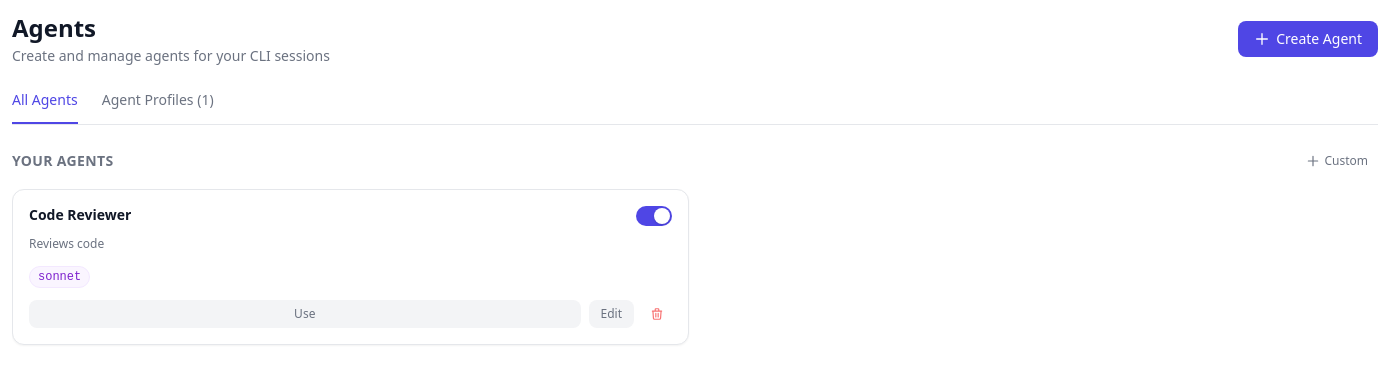
it: Agents › shows profiles in profiles view
Expected: the text "Code Reviewer" is shown, [29, 206, 132, 224]
Step 1. Click the button "Agent Profiles (1)" → (158, 107), box [102, 90, 214, 124]
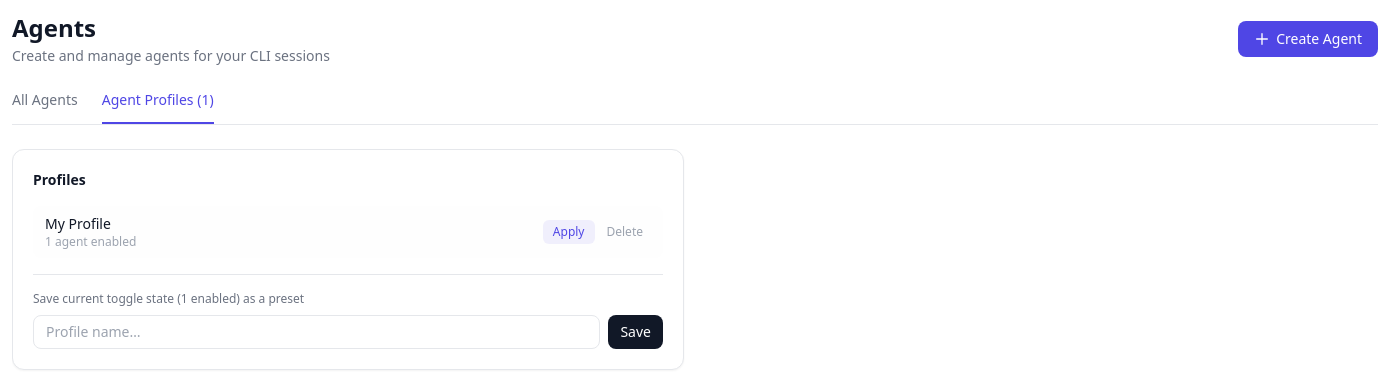
Expected: the text "My Profile" is shown, [45, 214, 111, 233]
